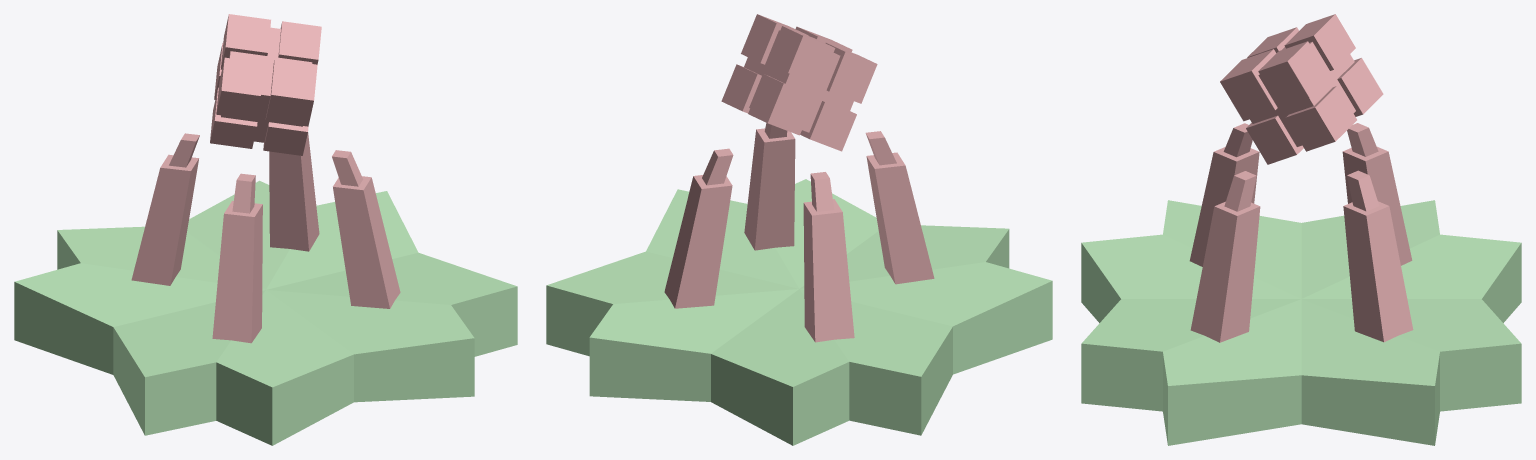
The model's file is TorreNormalAVC1.fbx.
3 renders of one model, left to right at view 1: azimuth 30°, elevation 25°; view 2: azimuth 150°, elevation 25°; view 3: azimuth 270°, elevation 25°, orthographic. The views are drawn at different scales.
Visible parts, largest first — view 1: Torre, Base; view 2: Torre, Base; view 3: Torre, Base.
Boxes of the visible parts, x1,y1,x2,y2 form: Torre: [14, 132, 517, 445]; Base: [210, 14, 321, 155]; Torre: [546, 123, 1052, 445]; Base: [721, 14, 877, 151]; Torre: [1081, 123, 1521, 445]; Base: [1220, 14, 1383, 164].
Size of the model in its own units: 440 by 363 by 440.
